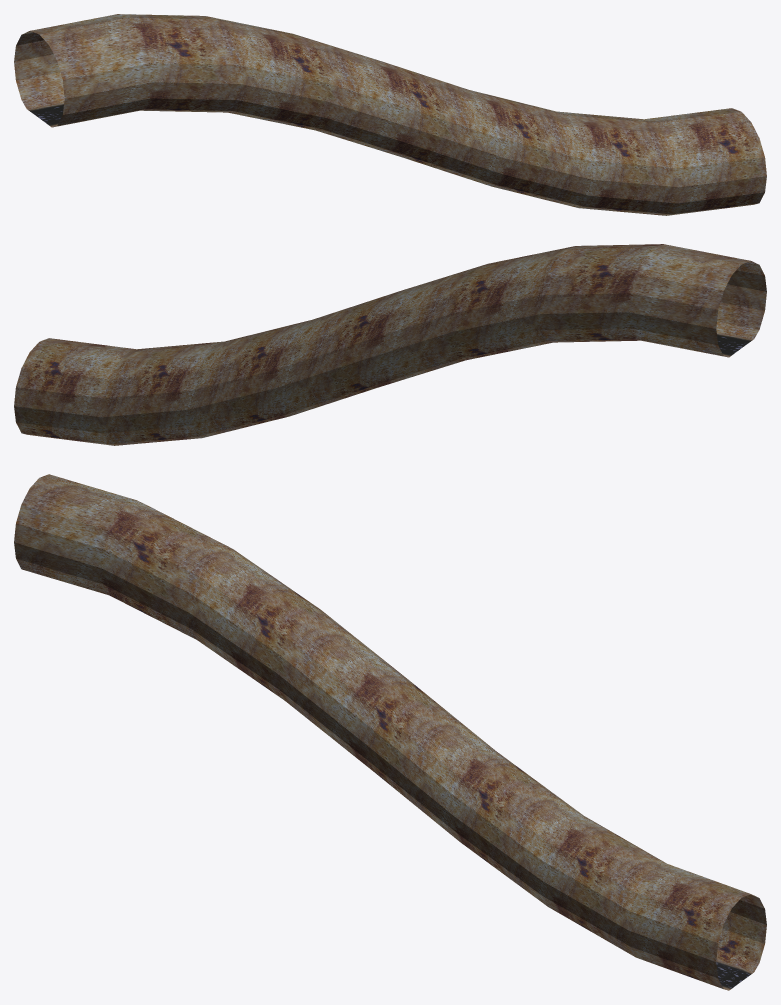
The model's file is can01.fbx.
3 renders of one model, top to bottom at view 1: azimuth 30°, elevation 25°; view 2: azimuth 150°, elevation 25°; view 3: azimuth 330°, elevation 25°, orthographic.
Visible parts, largest first — view 1: pPipe1; view 2: pPipe1; view 3: pPipe1.
Boxes of the visible parts, <box> form: pPipe1: <box>14,14,766,215</box>; pPipe1: <box>14,244,766,445</box>; pPipe1: <box>14,474,766,990</box>.
Size of the model in its own units: 24 by 10.85 by 3.
